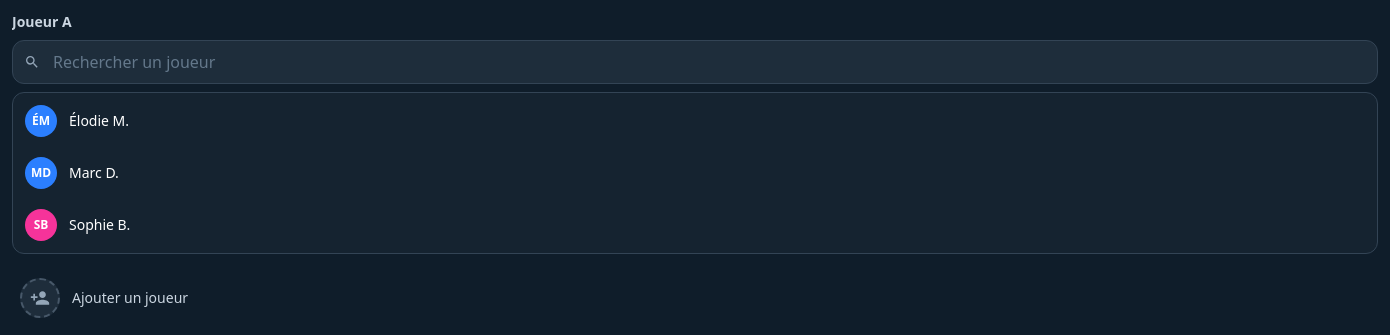
Test: PlayerPicker › filters the list by name as you type
Type "soph" into the field named "Rechercher Joueur A" at {"x": 695, "y": 62}, box [12,40,1378,84]
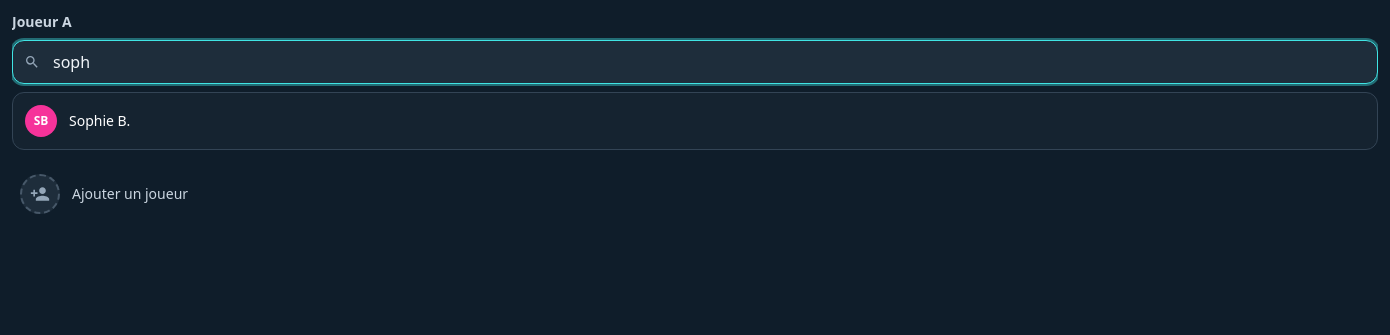
Expected: the option "SB Sophie B." is shown, [17,97,1373,145]
Now the option "Marc" is gone
